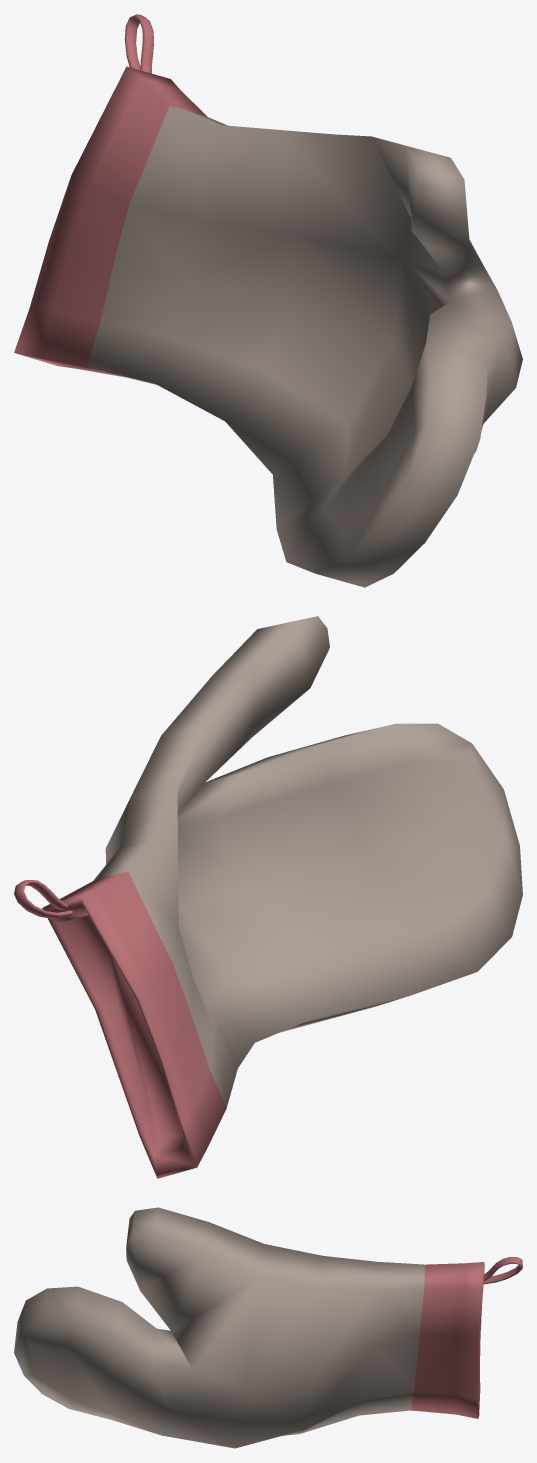
Rendered from glove.fbx.
The picture shows the model from 3 angles, top to bottom: view 1: azimuth 30°, elevation 25°; view 2: azimuth 150°, elevation 25°; view 3: azimuth 270°, elevation 25°; orthographic projection. The views are drawn at different scales.
Parts seen in each view (by area): view 1: glove; view 2: glove; view 3: glove.
Boxes of the visible parts, bbox=[...] form: glove: bbox=[14, 14, 522, 587]; glove: bbox=[14, 616, 522, 1178]; glove: bbox=[14, 1207, 522, 1448].
Size of the model in its own units: 3.64 by 8.58 by 4.6.
